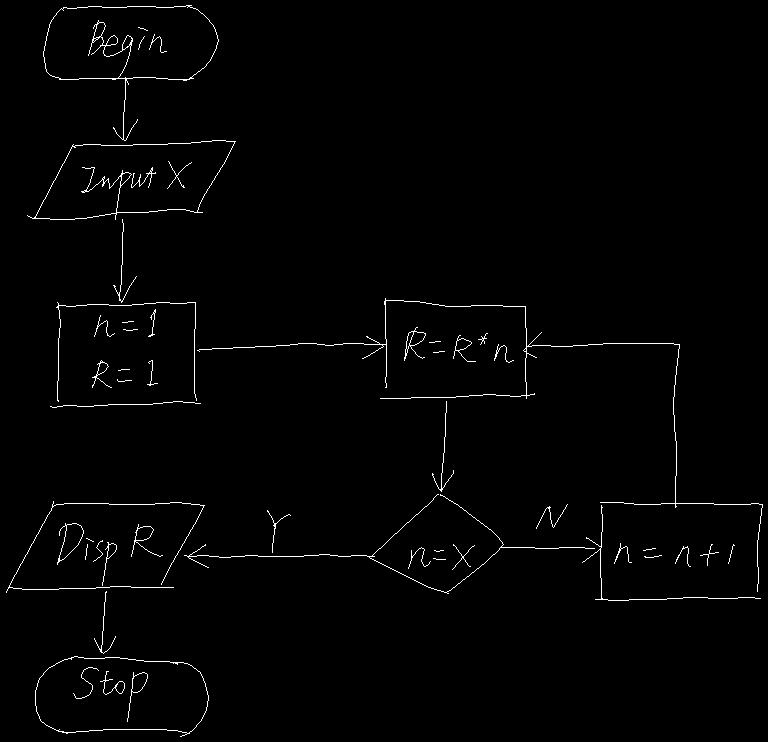arrow: (523, 332, 679, 507), (184, 544, 374, 567), (197, 336, 386, 358), (500, 537, 601, 562), (113, 219, 136, 302), (432, 401, 453, 491), (113, 77, 137, 140), (94, 591, 115, 653)
data: (6, 501, 204, 592), (27, 140, 235, 219)
decision: (369, 494, 503, 593)
process: (595, 502, 762, 600), (50, 302, 200, 407), (380, 298, 534, 398)
terminator: (35, 656, 208, 736), (43, 5, 218, 80)
text: (57, 523, 162, 585), (81, 161, 191, 219), (92, 309, 157, 387), (88, 20, 166, 79), (73, 667, 147, 721), (404, 327, 513, 362), (614, 543, 734, 566), (408, 544, 474, 569), (267, 510, 290, 552), (536, 504, 567, 528)
